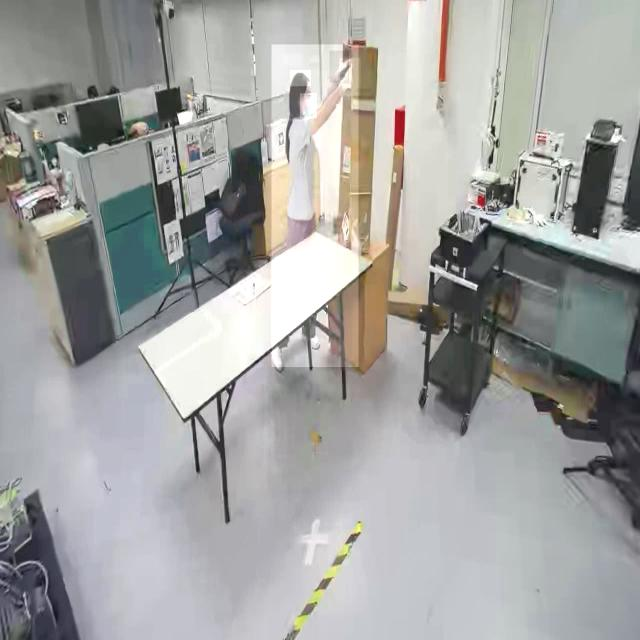face_mask: (300, 94, 316, 118)
hand_glove: (338, 58, 361, 97), (329, 51, 349, 84)
head_nohelmet: (290, 70, 311, 87)
person: (271, 44, 359, 368)
